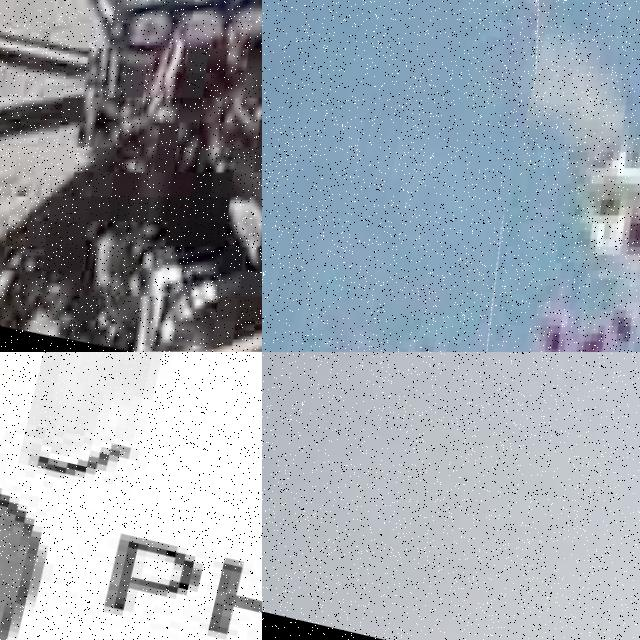0: (0, 0, 262, 352)
drone: (430, 0, 640, 352)
